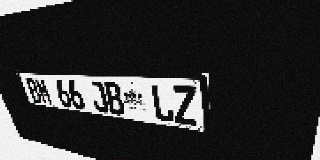6: (65, 80, 86, 110), (53, 79, 74, 108)
B: (103, 81, 126, 116), (24, 77, 43, 104)
J: (87, 81, 110, 114)
L: (149, 84, 175, 123)
M: (34, 78, 54, 105)
Z: (172, 85, 198, 126)
